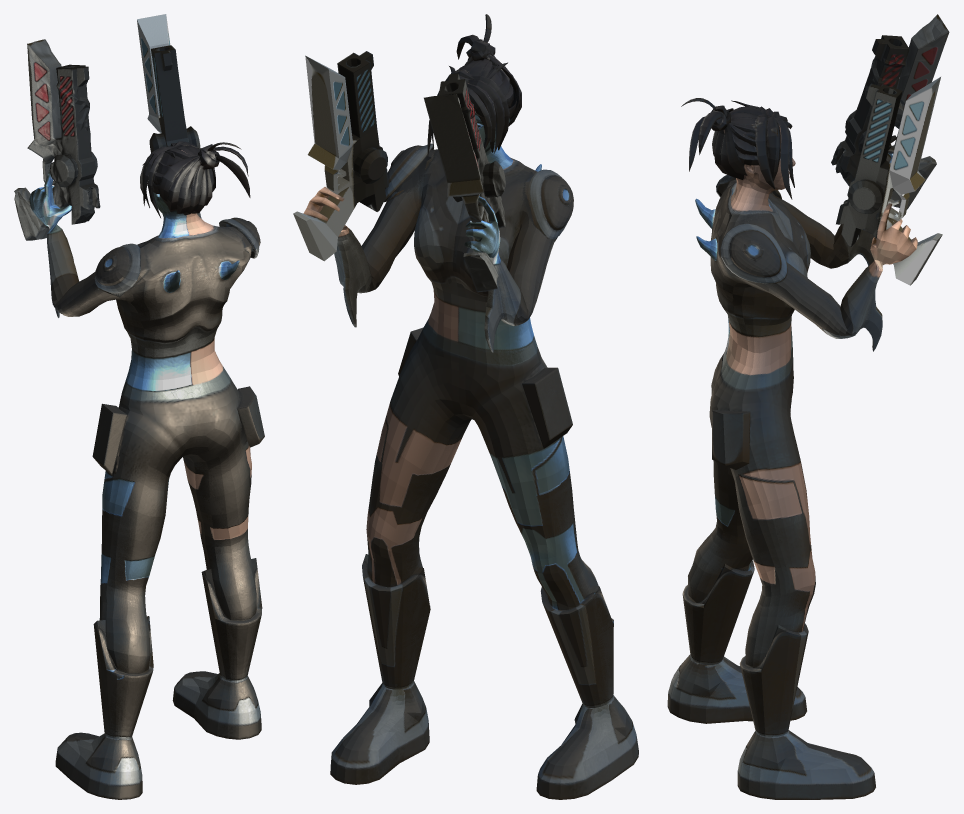
3 renders of one model, left to right at view 1: azimuth 30°, elevation 25°; view 2: azimuth 150°, elevation 25°; view 3: azimuth 270°, elevation 25°, orthographic. The views are drawn at different scales.
Visible parts, largest first — view 1: Dex_LOW_Plane.001; view 2: Dex_LOW_Plane.001; view 3: Dex_LOW_Plane.001.
Part boxes in pixels (x1=…): Dex_LOW_Plane.001: x1=14, y1=14, x2=264, y2=799; Dex_LOW_Plane.001: x1=293, y1=14, x2=638, y2=799; Dex_LOW_Plane.001: x1=667, y1=14, x2=949, y2=799.
Size of the model in its own units: 1.63 by 5.08 by 1.83.
